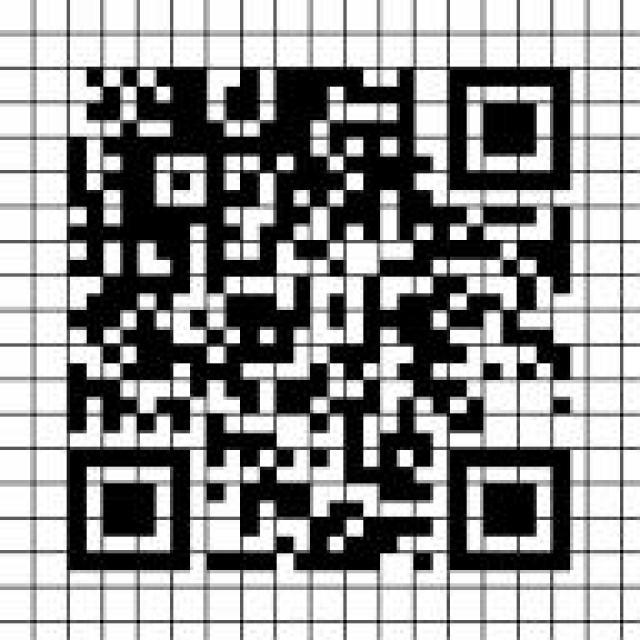qr_code: (66, 66, 571, 572)
